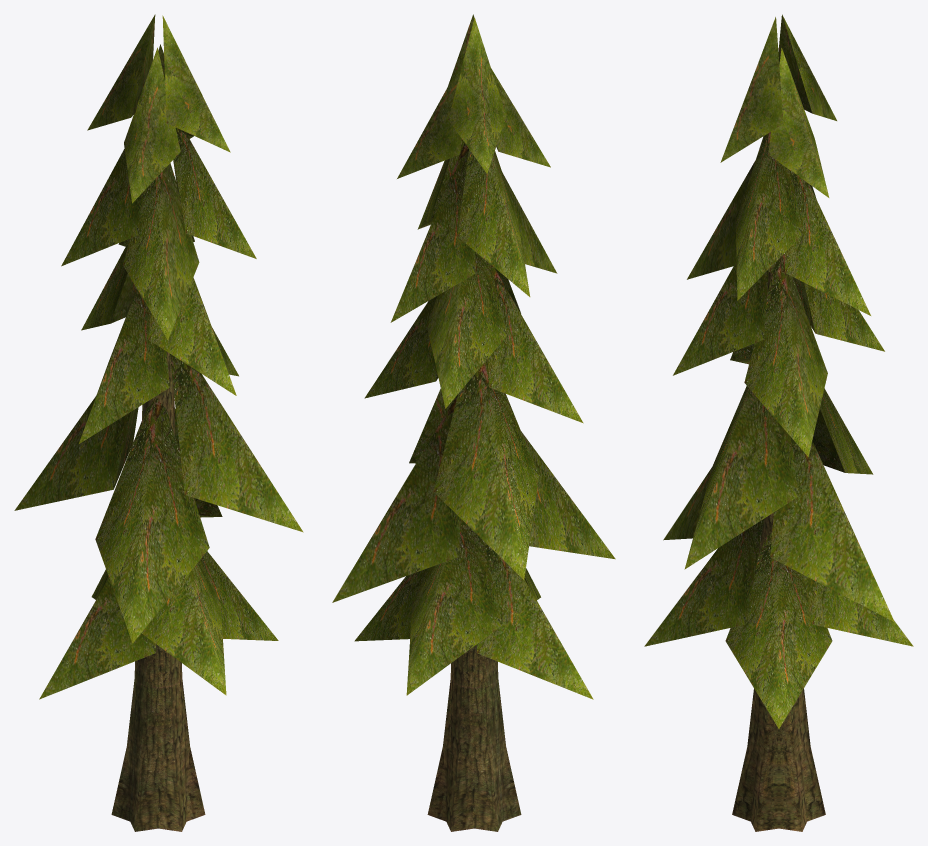
File: Tree02.FBX
3 renders of one model, left to right at view 1: azimuth 30°, elevation 25°; view 2: azimuth 150°, elevation 25°; view 3: azimuth 270°, elevation 25°, orthographic.
Visible parts, largest first — view 1: Tree02; view 2: Tree02; view 3: Tree02.
Part boxes in pixels (<box>): Tree02: <box>14,14,303,831</box>; Tree02: <box>332,14,615,831</box>; Tree02: <box>644,14,913,831</box>.
Size of the model in its own units: 365 by 1164 by 356.
